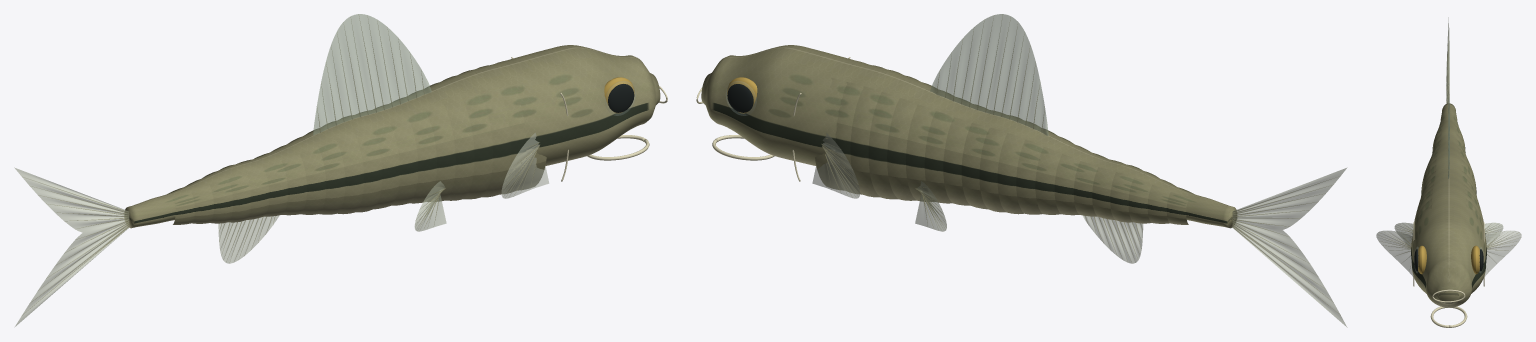
File: oto-desktop.glb
3 views of the same model, side by side, from view 1: azimuth 30°, elevation 25°; view 2: azimuth 150°, elevation 25°; view 3: azimuth 270°, elevation 25° (orthographic). The views are drawn at different scales.
Visible parts, largest first — view 1: skin, dorsal, tail, dorsal-ray, anal, pectoral-left, pelvic-left, eye-pupil--1, operculum; view 2: skin, dorsal, tail, dorsal-ray, anal, pectoral-left, pelvic-left, eye-pupil--1, operculum; view 3: skin, pectoral-left, dorsal-ray, pelvic-left, operculum, eye-iris--1, tail, dorsal, eye-pupil--1.
Part boxes in pixels (x1,y1,x2,y2): skin: [124, 45, 660, 228]; dorsal: [313, 14, 431, 135]; tail: [14, 167, 129, 326]; dorsal-ray: [24, 14, 539, 313]; anal: [218, 215, 279, 263]; pectoral-left: [501, 133, 548, 198]; pelvic-left: [414, 181, 446, 231]; eye-pupil--1: [608, 84, 634, 112]; operculum: [511, 57, 667, 181]; skin: [701, 45, 1236, 228]; dorsal: [930, 14, 1048, 135]; tail: [1233, 168, 1347, 327]; dorsal-ray: [821, 17, 1338, 313]; anal: [1082, 215, 1143, 263]; pectoral-left: [812, 133, 860, 198]; pelvic-left: [915, 181, 946, 231]; eye-pupil--1: [727, 84, 753, 112]; operculum: [696, 57, 850, 181]; skin: [1411, 103, 1486, 307]; pectoral-left: [1376, 230, 1521, 276]; dorsal-ray: [1381, 37, 1518, 266]; pelvic-left: [1394, 222, 1503, 245]; operculum: [1413, 222, 1484, 327]; eye-iris--1: [1418, 245, 1479, 274]; tail: [1446, 17, 1449, 103]; dorsal: [1448, 87, 1449, 178]; eye-pupil--1: [1414, 249, 1483, 271].
Bounding box in the file's own units: 0.6032 × 0.2064 × 0.1646.
Materials: 11 (1 with a texture image).
